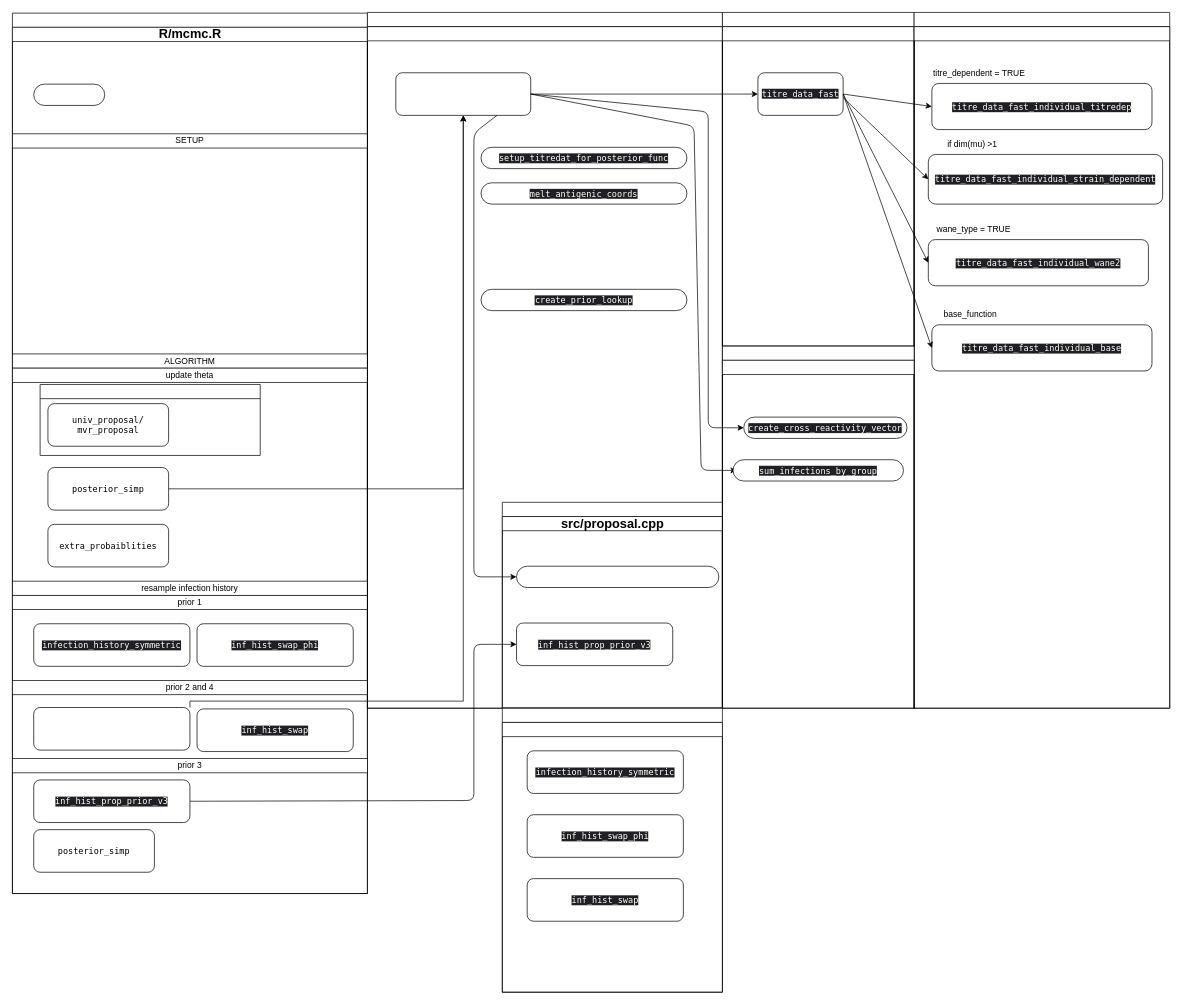
Some shapes in this 1182 by 1005 pixel diagram are drawn without their labels. Here are the shapes that lost their labels. From the top down, the box of each, then its label:
(33, 83, 105, 105): run_MCMC
(395, 72, 531, 115): create_posterior_func
(722, 26, 914, 346): src/infection_model_fast.cpp
(367, 26, 722, 708): R/posterior.R
(913, 26, 1170, 708): src/boosting_functions_fast.cpp
(39, 384, 260, 455): R/proposal_theta.R
(722, 360, 914, 708): src/helpers.cpp
(516, 566, 719, 588): inf_hist_prop_prior_v2_and_v4
(33, 707, 190, 750): proposal_gibbs
(502, 722, 722, 992): R/proposal_infection_history.R
